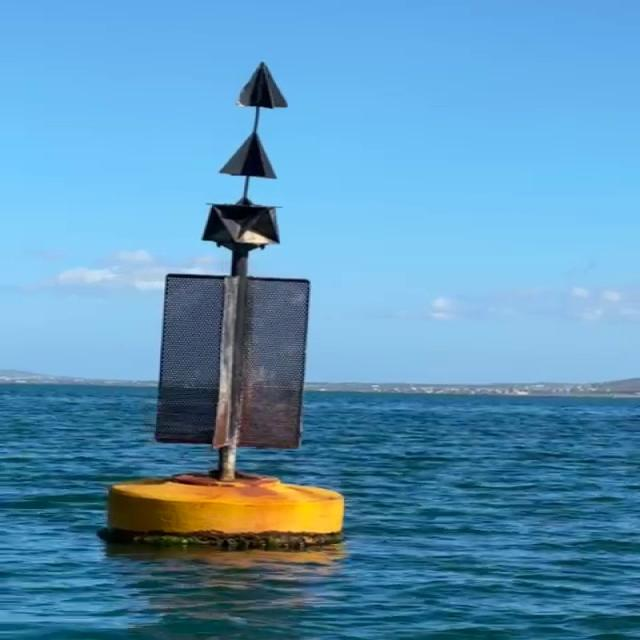marque: (94, 59, 351, 554)
